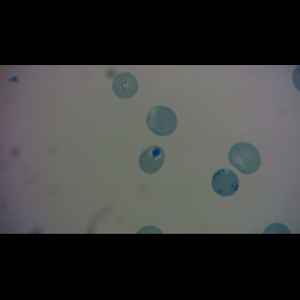aggregate reticulocyte: (211, 168, 240, 197)
erythrocyte: (138, 145, 165, 175), (112, 72, 139, 99)
punctate reticulocyte: (227, 141, 262, 176), (146, 105, 178, 136)
